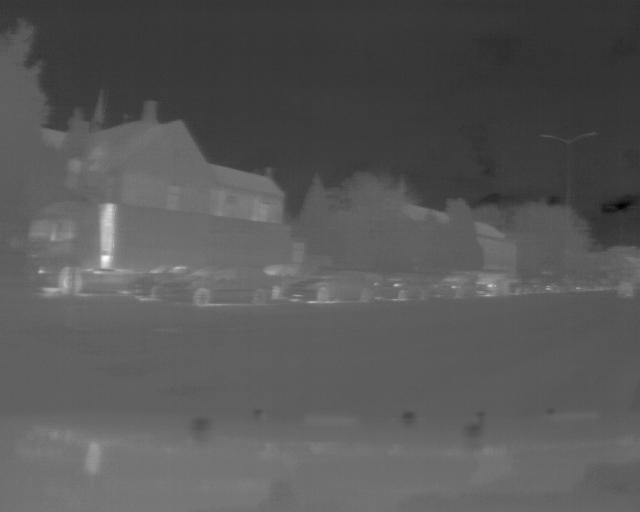car: (157, 263, 275, 312), (284, 270, 376, 307)
